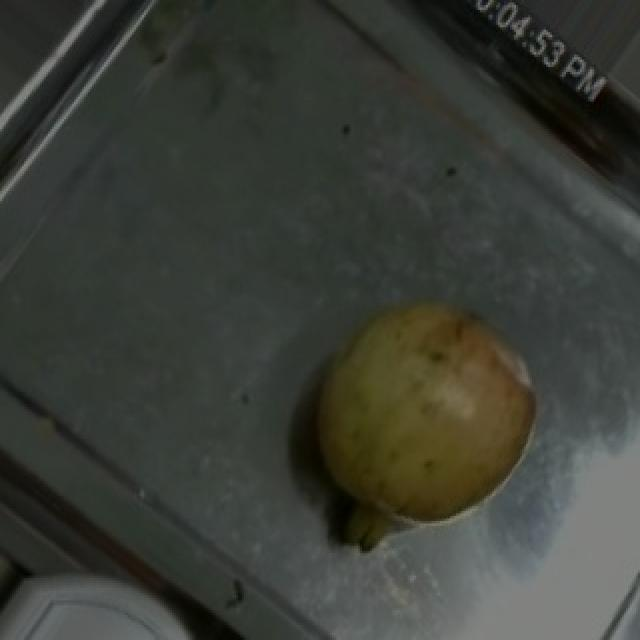fruit: (278, 292, 568, 570)
